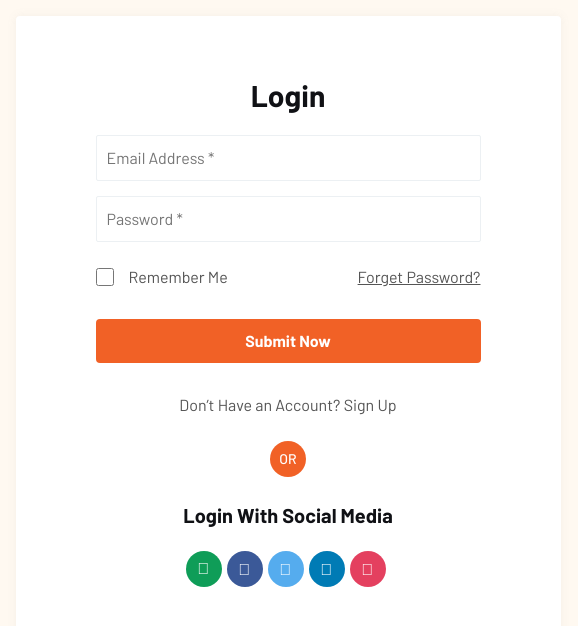
Test: Login › shows backend error messages when login fails
The width and height of the screenshot is (578, 626).
Type "fail@example.com" into the field with placeholder "Email Address *".
click(288, 158); type("fail@example.com")  # box [96,135,480,181]
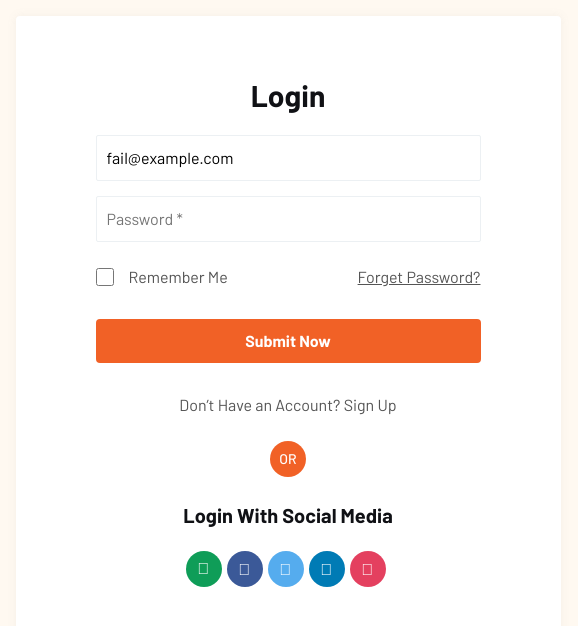
Type "WrongPass!" into the password field with placeholder "Password *".
click(288, 219); type("WrongPass!")  # box [96,196,480,242]
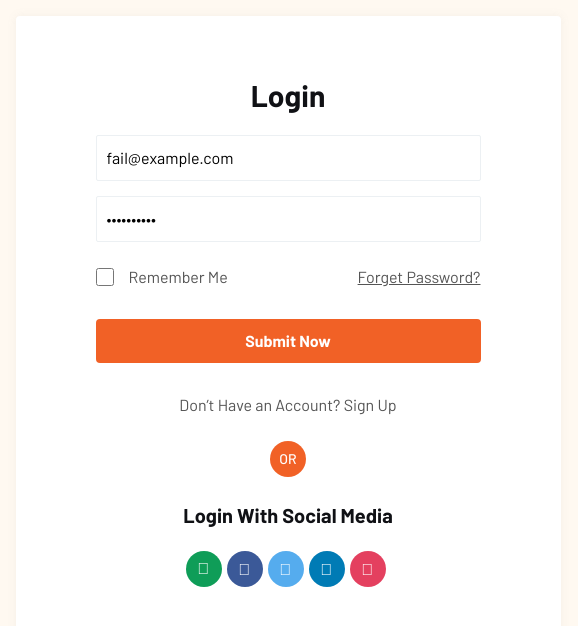
Submit the form with placeholder "email address", box [96,135,480,363]
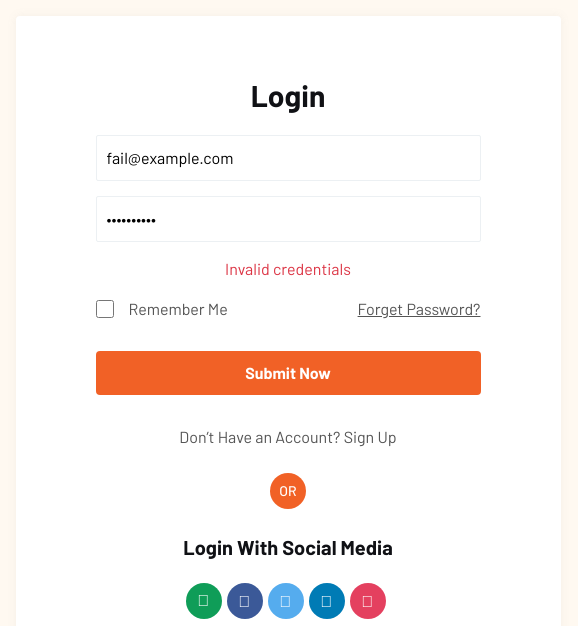
Expected: the text "Invalid credentials" is shown, [225,259,351,278]
